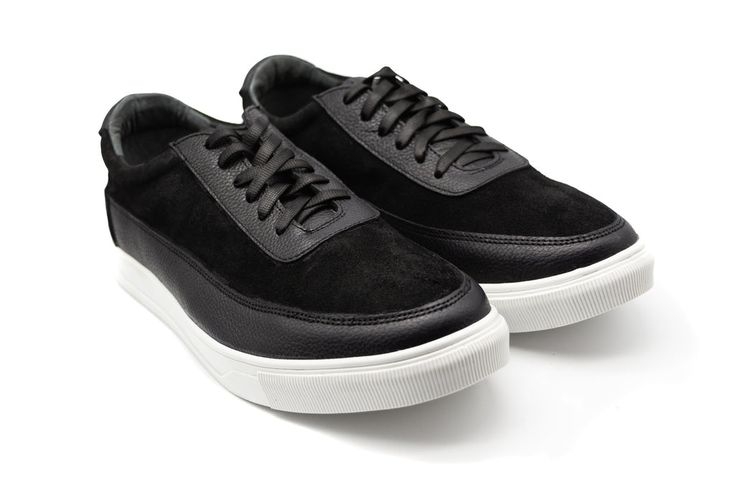gamuza: (98, 101, 618, 317)
